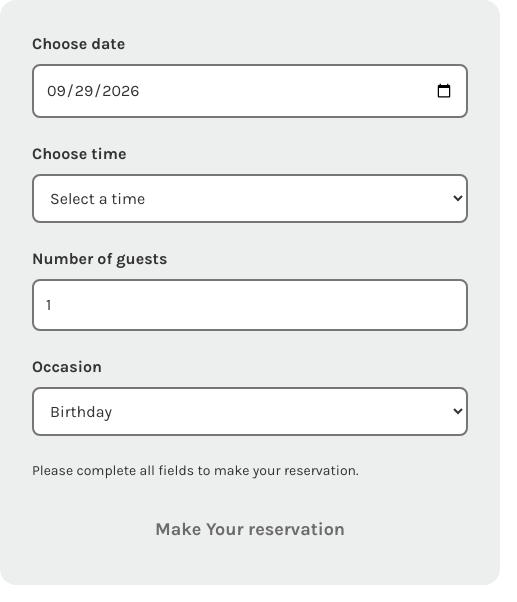
Test: BookingForm: interactions and submission › shows an error message when the API fails
Select "17:00" in the dropdown labelled "Choose time": (250, 198) [32, 174, 468, 223]
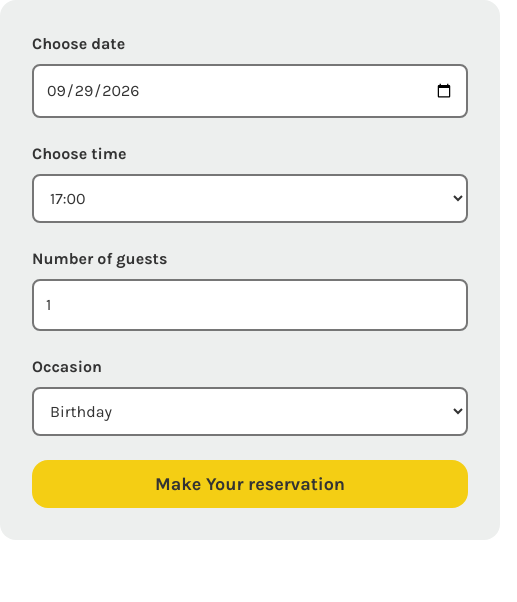
Click the button "Make Your reservation": (250, 484) [32, 460, 468, 508]
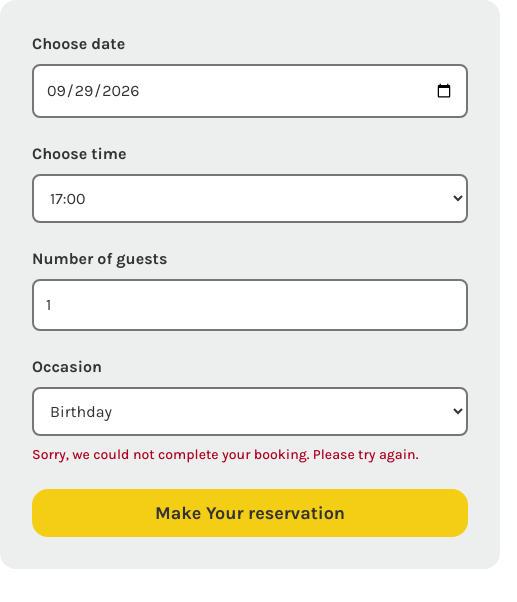
Result: the message reads "Sorry, we could not complete your booking. Please try again." at [32, 446, 418, 463]
